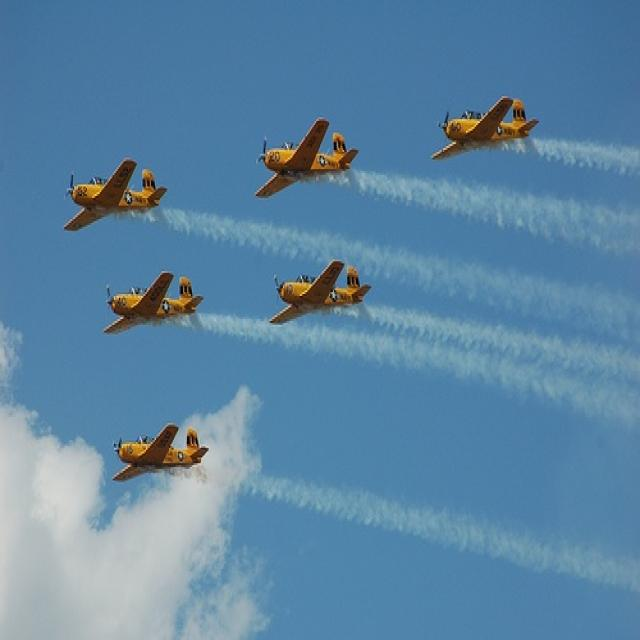aeroplane: (252, 115, 355, 200), (59, 158, 168, 228), (429, 92, 534, 162), (268, 257, 371, 325), (102, 267, 204, 335), (110, 421, 209, 486)
